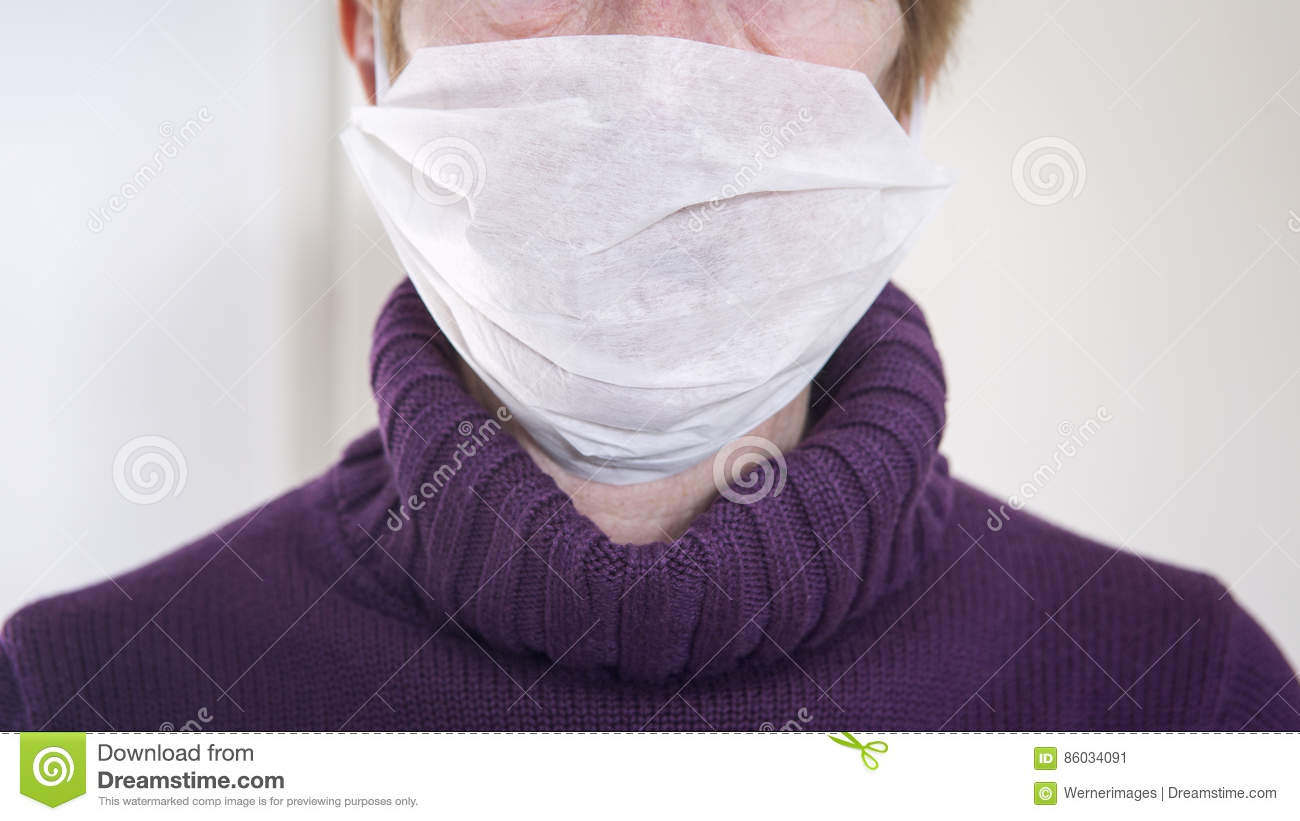mask: (340, 42, 914, 492)
